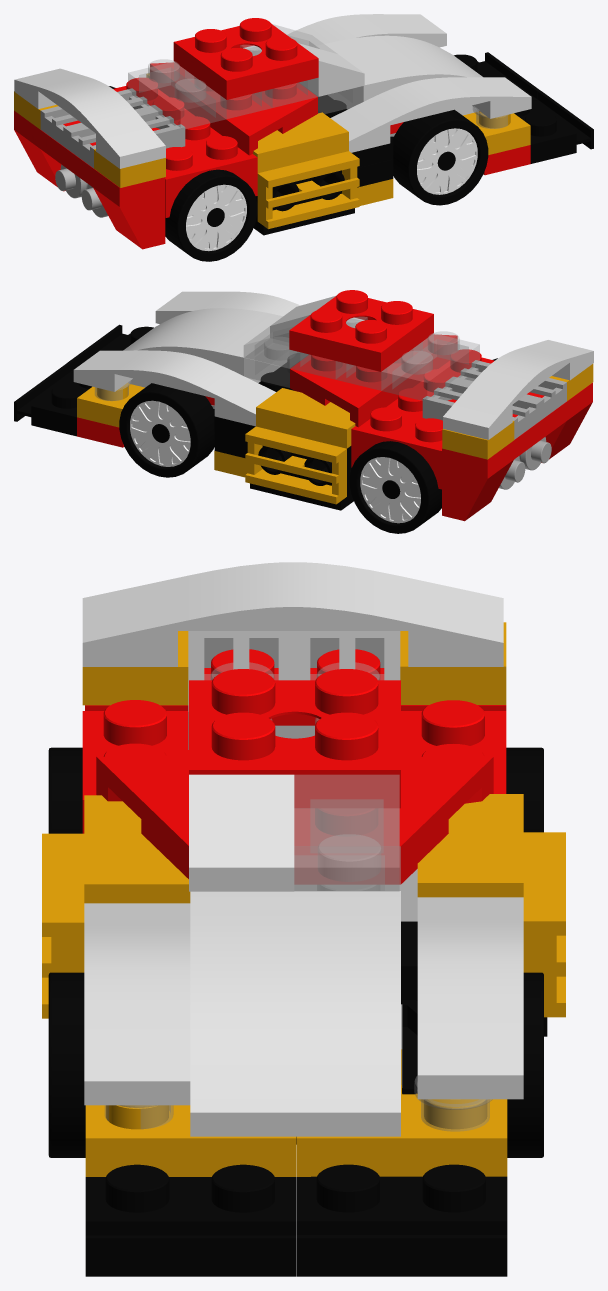
The model's file is lego-car.glb.
3 views of the same model, one above another, from view 1: azimuth 30°, elevation 25°; view 2: azimuth 150°, elevation 25°; view 3: azimuth 270°, elevation 25° (orthographic). The views are drawn at different scales.
Visible parts, largest first — view 1: 6023858_$AssimpFbx$_Rotation, 6023876_$AssimpFbx$_Rotation, curvodentro, Box023, Box020, RUEDAS001, RUEDAS, Box016, 4649773_$AssimpFbx$_Rotation, radiador001, Box033, Back (+52 smaller); view 2: 4649773_$AssimpFbx$_Rotation, 6023876_$AssimpFbx$_Rotation, curvodentro, Box023, Box020, RUEDAS003, RUEDAS002, Box016, radiador, Box033, Back, 6023858_$AssimpFbx$_Rotation (+53 smaller); view 3: curvodentro, 6023876_$AssimpFbx$_Rotation, 6023858_$AssimpFbx$_Rotation, 4649773_$AssimpFbx$_Rotation, Box023, Box050, Box027, Box020, 6023874_$AssimpFbx$_Rotation, 4244368_$AssimpFbx$_Rotation, Box002, Box049 (+39 smaller).
Boxes of the visible parts, box(x1,y1,x2,y2) form: 6023858_$AssimpFbx$_Rotation: box(330, 77, 531, 152); 6023876_$AssimpFbx$_Rotation: box(14, 68, 165, 168); curvodentro: box(313, 35, 482, 115); Box023: box(150, 62, 317, 155); Box020: box(173, 24, 318, 99); RUEDAS001: box(393, 109, 488, 205); RUEDAS: box(165, 169, 257, 261); Box016: box(128, 62, 226, 128); 4649773_$AssimpFbx$_Rotation: box(252, 14, 446, 55); radiador001: box(253, 112, 348, 173); Box033: box(14, 110, 165, 206); Back: box(14, 130, 153, 249); 4649773_$AssimpFbx$_Rotation: box(73, 350, 275, 426); 6023876_$AssimpFbx$_Rotation: box(443, 340, 593, 439); curvodentro: box(123, 308, 295, 387); Box023: box(290, 334, 457, 427); Box020: box(289, 296, 433, 371); RUEDAS003: box(119, 383, 214, 477); RUEDAS002: box(349, 441, 441, 533); Box016: box(381, 333, 479, 400); radiador: box(256, 388, 355, 448); Box033: box(442, 382, 592, 478); Back: box(453, 402, 592, 521); 6023858_$AssimpFbx$_Rotation: box(155, 291, 300, 352); curvodentro: box(190, 891, 400, 1136); 6023876_$AssimpFbx$_Rotation: box(82, 562, 503, 666); 6023858_$AssimpFbx$_Rotation: box(84, 903, 190, 1105); 4649773_$AssimpFbx$_Rotation: box(417, 897, 523, 1099); Box023: box(96, 756, 493, 884); Box050: box(296, 1176, 507, 1276); Box027: box(85, 1177, 296, 1276); Box020: box(189, 680, 400, 808); 6023874_$AssimpFbx$_Rotation: box(189, 774, 294, 891); 4244368_$AssimpFbx$_Rotation: box(294, 775, 399, 891); Box002: box(296, 1049, 507, 1176); Box049: box(85, 1105, 296, 1176).
Bounding box in the file's own units: 3.25 × 1.01 × 1.56.
